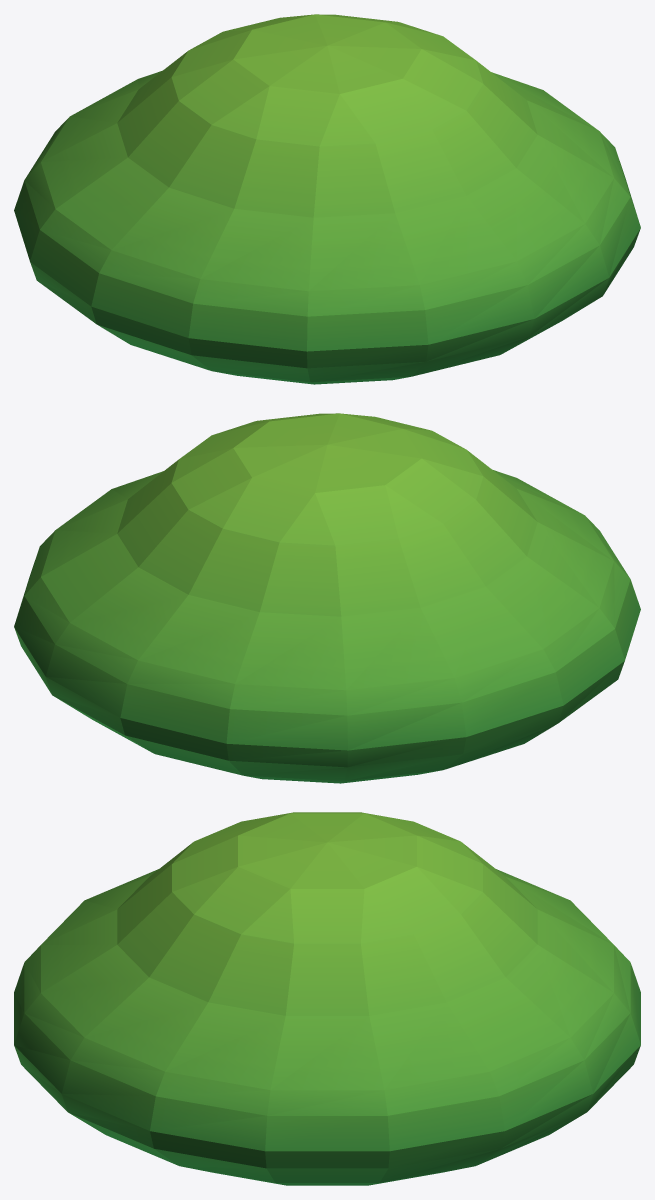
The model's file is kf_bush_3_c.fbx.
3 views of the same model, one above another, from view 1: azimuth 30°, elevation 25°; view 2: azimuth 150°, elevation 25°; view 3: azimuth 270°, elevation 25° (orthographic).
Parts seen in each view (by area): view 1: kf_bush_3_c_LOD0; view 2: kf_bush_3_c_LOD0; view 3: kf_bush_3_c_LOD0.
Boxes of the visible parts, x1=… form: kf_bush_3_c_LOD0: x1=14, y1=14, x2=640, y2=384; kf_bush_3_c_LOD0: x1=14, y1=413, x2=640, y2=783; kf_bush_3_c_LOD0: x1=14, y1=812, x2=640, y2=1185.
Size of what is drawn, in the model's own units: 3.98 by 1.84 by 3.98.
Materials: 1 (1 with a texture image).
